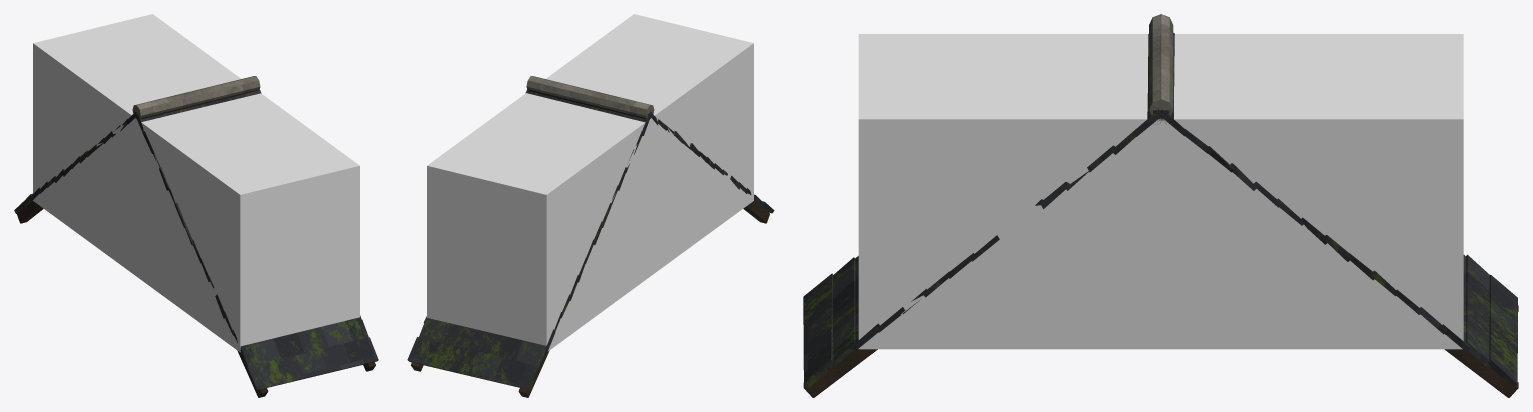
Rendered from ak_roof_slate_span6_2m.glb.
The picture shows the model from 3 angles, left to right: view 1: azimuth 30°, elevation 25°; view 2: azimuth 150°, elevation 25°; view 3: azimuth 270°, elevation 25°; orthographic projection. The views are drawn at different scales.
Visible parts, largest first — view 1: col_roof, roof; view 2: col_roof, roof; view 3: col_roof, roof.
Boxes of the visible parts, left/top/right/bottom form: col_roof: left=33, top=14, right=359, bottom=352; roof: left=14, top=76, right=378, bottom=397; col_roof: left=427, top=14, right=753, bottom=351; roof: left=407, top=76, right=774, bottom=397; col_roof: left=858, top=34, right=1463, bottom=349; roof: left=803, top=14, right=1518, bottom=397.
Size of the model in its own units: 2.06 by 3.29 by 7.09.
3 materials, 3 textured.
